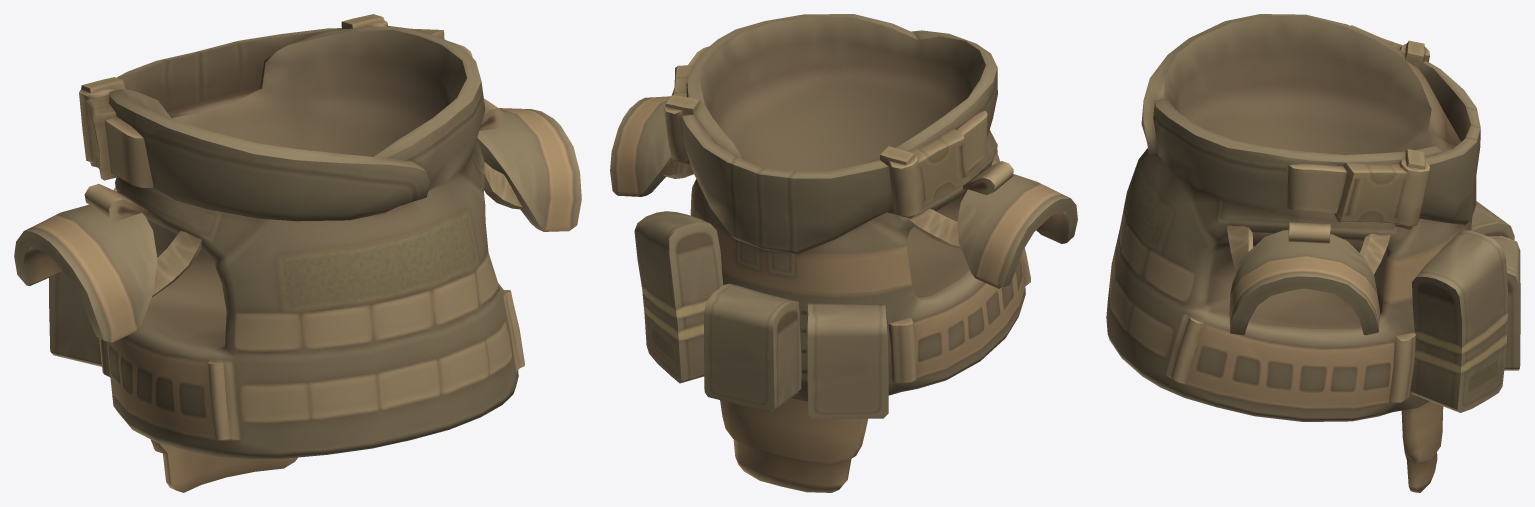
The model's file is IG_Armor_Lv6-1.fbx.
3 renders of one model, left to right at view 1: azimuth 30°, elevation 25°; view 2: azimuth 150°, elevation 25°; view 3: azimuth 270°, elevation 25°, orthographic. The views are drawn at different scales.
Parts seen in each view (by area): view 1: Clothes_LV6_1; view 2: Clothes_LV6_1; view 3: Clothes_LV6_1.
Part boxes in pixels (<box>): Clothes_LV6_1: <box>14,14,581,492</box>; Clothes_LV6_1: <box>610,14,1077,492</box>; Clothes_LV6_1: <box>1106,14,1520,492</box>.
Size of the model in its own units: 0.8886 by 0.7755 by 0.7355.
